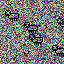sheep: (5, 10, 20, 21), (29, 34, 44, 45), (24, 22, 37, 33), (52, 45, 64, 56), (57, 18, 64, 28)
